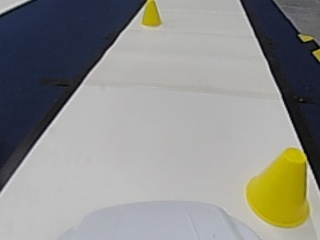cone: (246, 150, 309, 226), (142, 2, 161, 26)
